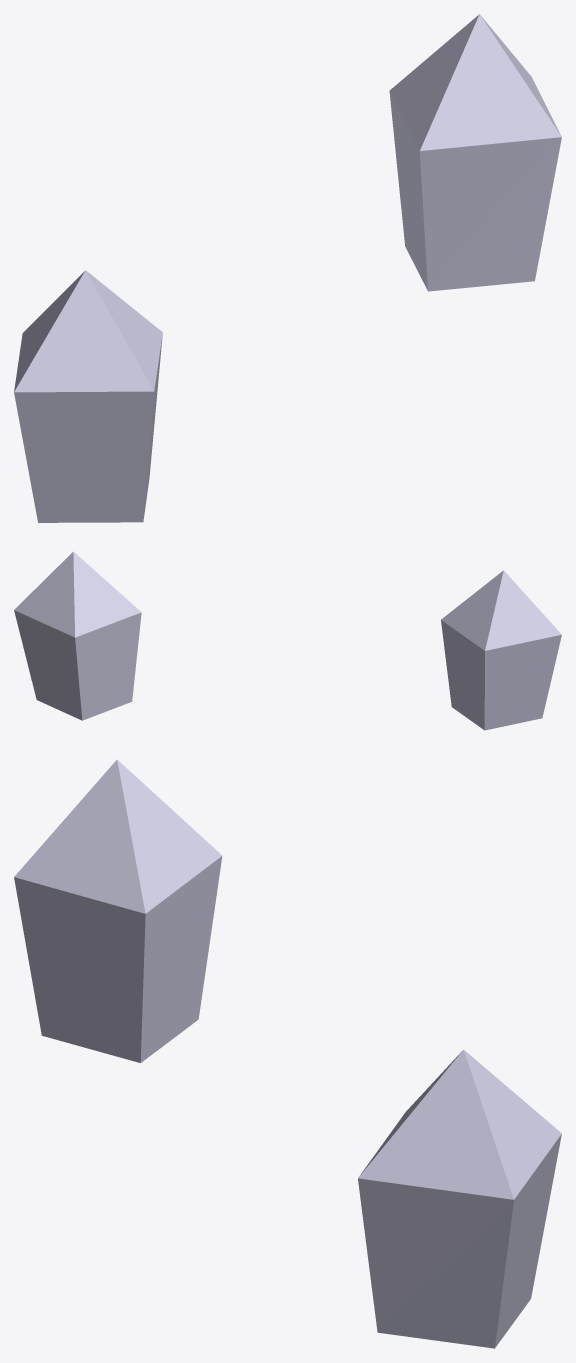
The model's file is crystal_ordo_1.obj.
3 renders of one model, top to bottom at view 1: azimuth 30°, elevation 25°; view 2: azimuth 150°, elevation 25°; view 3: azimuth 270°, elevation 25°, orthographic. The views are drawn at different scales.
Parts seen in each view (by area): view 1: s014, s015; view 2: s014, s015; view 3: s015, s014.
Part boxes in pixels (box(x1,y1,x2,y2)): s014: box(389, 14, 561, 291); s015: box(14, 270, 162, 522); s014: box(14, 551, 141, 720); s015: box(441, 570, 561, 730); s015: box(14, 759, 222, 1063); s014: box(358, 1049, 561, 1348).
Bounding box in the file's own units: 0.8279 × 0.2728 × 0.4947.
